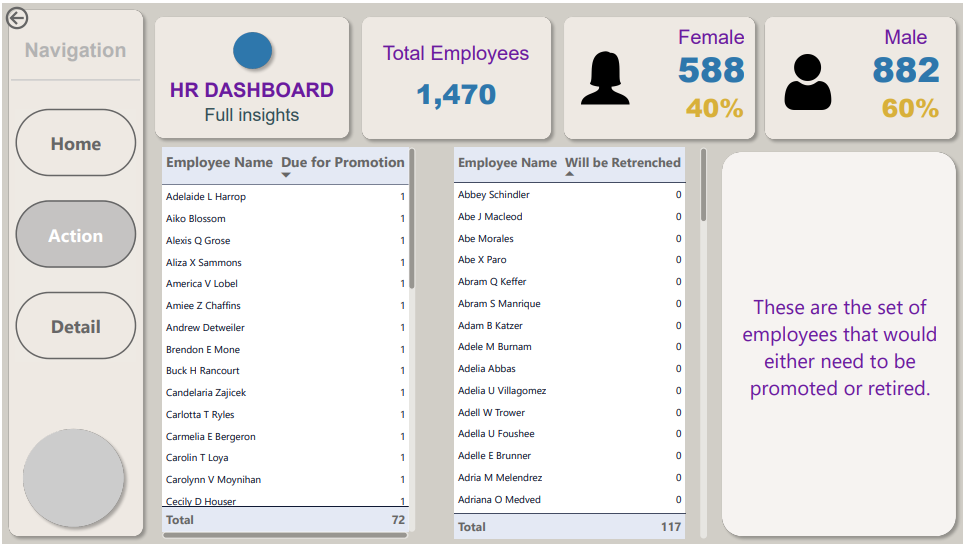

This screenshot's page, from the dashboard's own definition file:
{"tool":"powerbi","page":{"name":"Action","canvas":[1280,720],"ordinal":1},"visuals":[{"type":"shape","box":[0,0,195.9,719.3],"z":0},{"type":"shape","box":[195.6,9.9,275,178.6],"z":1000},{"type":"shape","box":[470.6,9.9,270.7,180],"z":2000},{"type":"shape","box":[741.3,9.9,270.7,180],"z":3000},{"type":"shape","box":[1009.1,9.9,270.7,180],"z":4000},{"type":"textbox","box":[195.6,96.4,275,43.9],"z":5000},{"type":"textbox","box":[195.6,130.4,275,59.5],"z":6000},{"type":"shape","box":[300.5,29.8,68,66.6],"z":7000},{"type":"textbox","box":[470.6,29.8,270.7,43.9],"z":8000},{"type":"textbox","box":[895.7,29.8,97.8,43.9],"z":9000},{"type":"textbox","box":[1132.4,29.8,129,43.9],"z":10000},{"type":"card","title":"Total Employees","fields":{"Values":["All Measures.Total Emp"]},"box":[479.8,52,251.6,107.4],"z":11000},{"type":"card","title":"Male","fields":{"Values":["All Measures.Male"]},"box":[1142.4,29.8,126.1,82.2],"z":12000},{"type":"card","title":"Female","fields":{"Values":["All Measures.% female"]},"box":[892.9,102,116.2,75.1],"z":13000},{"type":"card","title":"Female","fields":{"Values":["All Measures.% male"]},"box":[1155.1,102,113.4,75.1],"z":14000},{"type":"card","title":"Female","fields":{"Values":["All Measures.Female"]},"box":[883,29.8,126.1,82.2],"z":15000},{"type":"image","box":[755.4,51,95,99.2],"z":16000},{"type":"image","box":[1027.6,63.8,93.5,83.6],"z":17000},{"type":"actionButton","box":[0,0,100,40],"z":18000},{"type":"tableEx","fields":{"Values":["HR employee data.Emplyee name","All Measures.Due for Promotion"]},"box":[208.2,188.3,347.5,531.2],"z":19000},{"type":"tableEx","fields":{"Values":["HR employee data.Emplyee name","All Measures.Will be Retrenched"]},"box":[597,188.3,347.5,531.2],"z":20000},{"type":"shape","box":[950.7,189.8,329.1,529.7],"z":21000},{"type":"textbox","box":[973.6,379.6,287.8,185.2],"z":22000},{"type":"shape","box":[19.9,560.3,151.6,147],"z":22001},{"type":"shape","box":[12.2,7.7,171.5,189.8],"z":22002},{"type":"textbox","box":[12.2,42.9,171.5,45.9],"z":22003},{"type":"pageNavigator","box":[18.4,140.8,160.7,336.8],"z":22004}]}

Visuals, with their boxes in screenshot pixels (x1, y1, x2, y2), scaled from the page's 1280x720 canvas onto the 965x547 screenshot:
shape: bbox=(0, 0, 148, 546)
shape: bbox=(147, 8, 355, 143)
shape: bbox=(355, 8, 559, 144)
shape: bbox=(559, 8, 763, 144)
shape: bbox=(761, 8, 964, 144)
textbox: bbox=(147, 73, 355, 107)
textbox: bbox=(147, 99, 355, 144)
shape: bbox=(227, 23, 278, 73)
textbox: bbox=(355, 23, 559, 56)
textbox: bbox=(675, 23, 749, 56)
textbox: bbox=(854, 23, 951, 56)
"Total Employees" card: bbox=(362, 40, 551, 121)
"Male" card: bbox=(861, 23, 956, 85)
"Female" card: bbox=(673, 77, 761, 135)
"Female" card: bbox=(871, 77, 956, 135)
"Female" card: bbox=(666, 23, 761, 85)
image: bbox=(570, 39, 641, 114)
image: bbox=(775, 48, 845, 112)
actionButton: bbox=(0, 0, 75, 30)
tableEx - HR employee data.Emplyee name x All Measures.Due for Promotion: bbox=(157, 143, 419, 546)
tableEx - HR employee data.Emplyee name x All Measures.Will be Retrenched: bbox=(450, 143, 712, 546)
shape: bbox=(717, 144, 964, 546)
textbox: bbox=(734, 288, 951, 429)
shape: bbox=(15, 426, 129, 537)
shape: bbox=(9, 6, 138, 150)
textbox: bbox=(9, 33, 138, 67)
pageNavigator: bbox=(14, 107, 135, 363)
